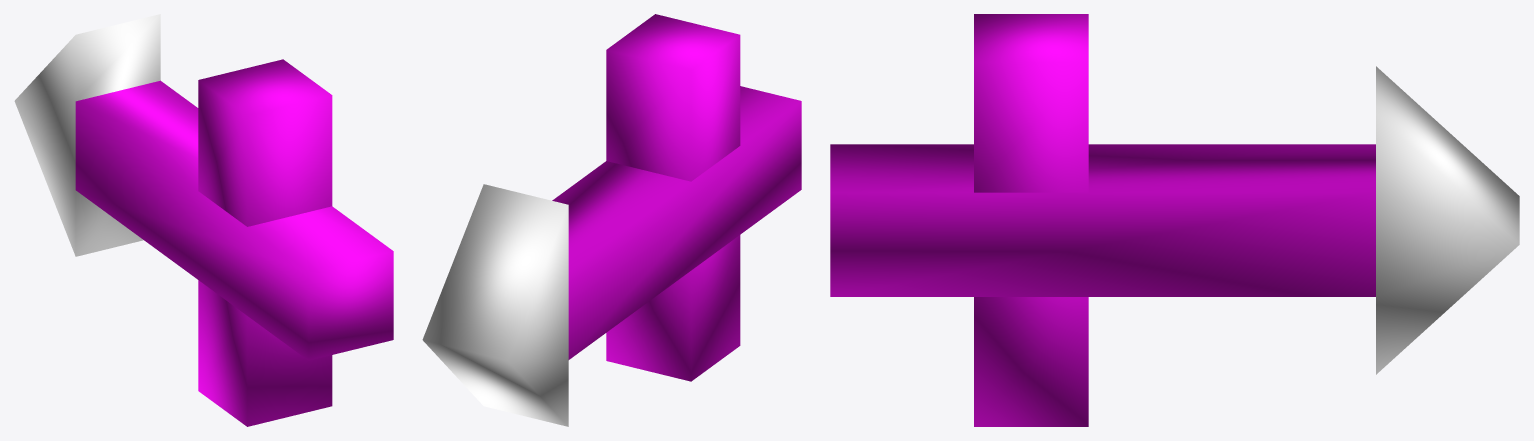
File: INVISIBLE_ZCVOBSTARTPOINT.glb
3 renders of one model, left to right at view 1: azimuth 30°, elevation 25°; view 2: azimuth 150°, elevation 25°; view 3: azimuth 270°, elevation 25°, orthographic. The views are drawn at different scales.
Parts seen in each view (by area): view 1: Mesh; view 2: Mesh; view 3: Mesh.
Boxes of the visible parts, x1,y1,x2,y2 form: Mesh: (14,14,393,426); Mesh: (422,14,801,426); Mesh: (830,14,1519,426).
Bounding box in the file's own units: 0.2 × 0.7 × 1.2.
